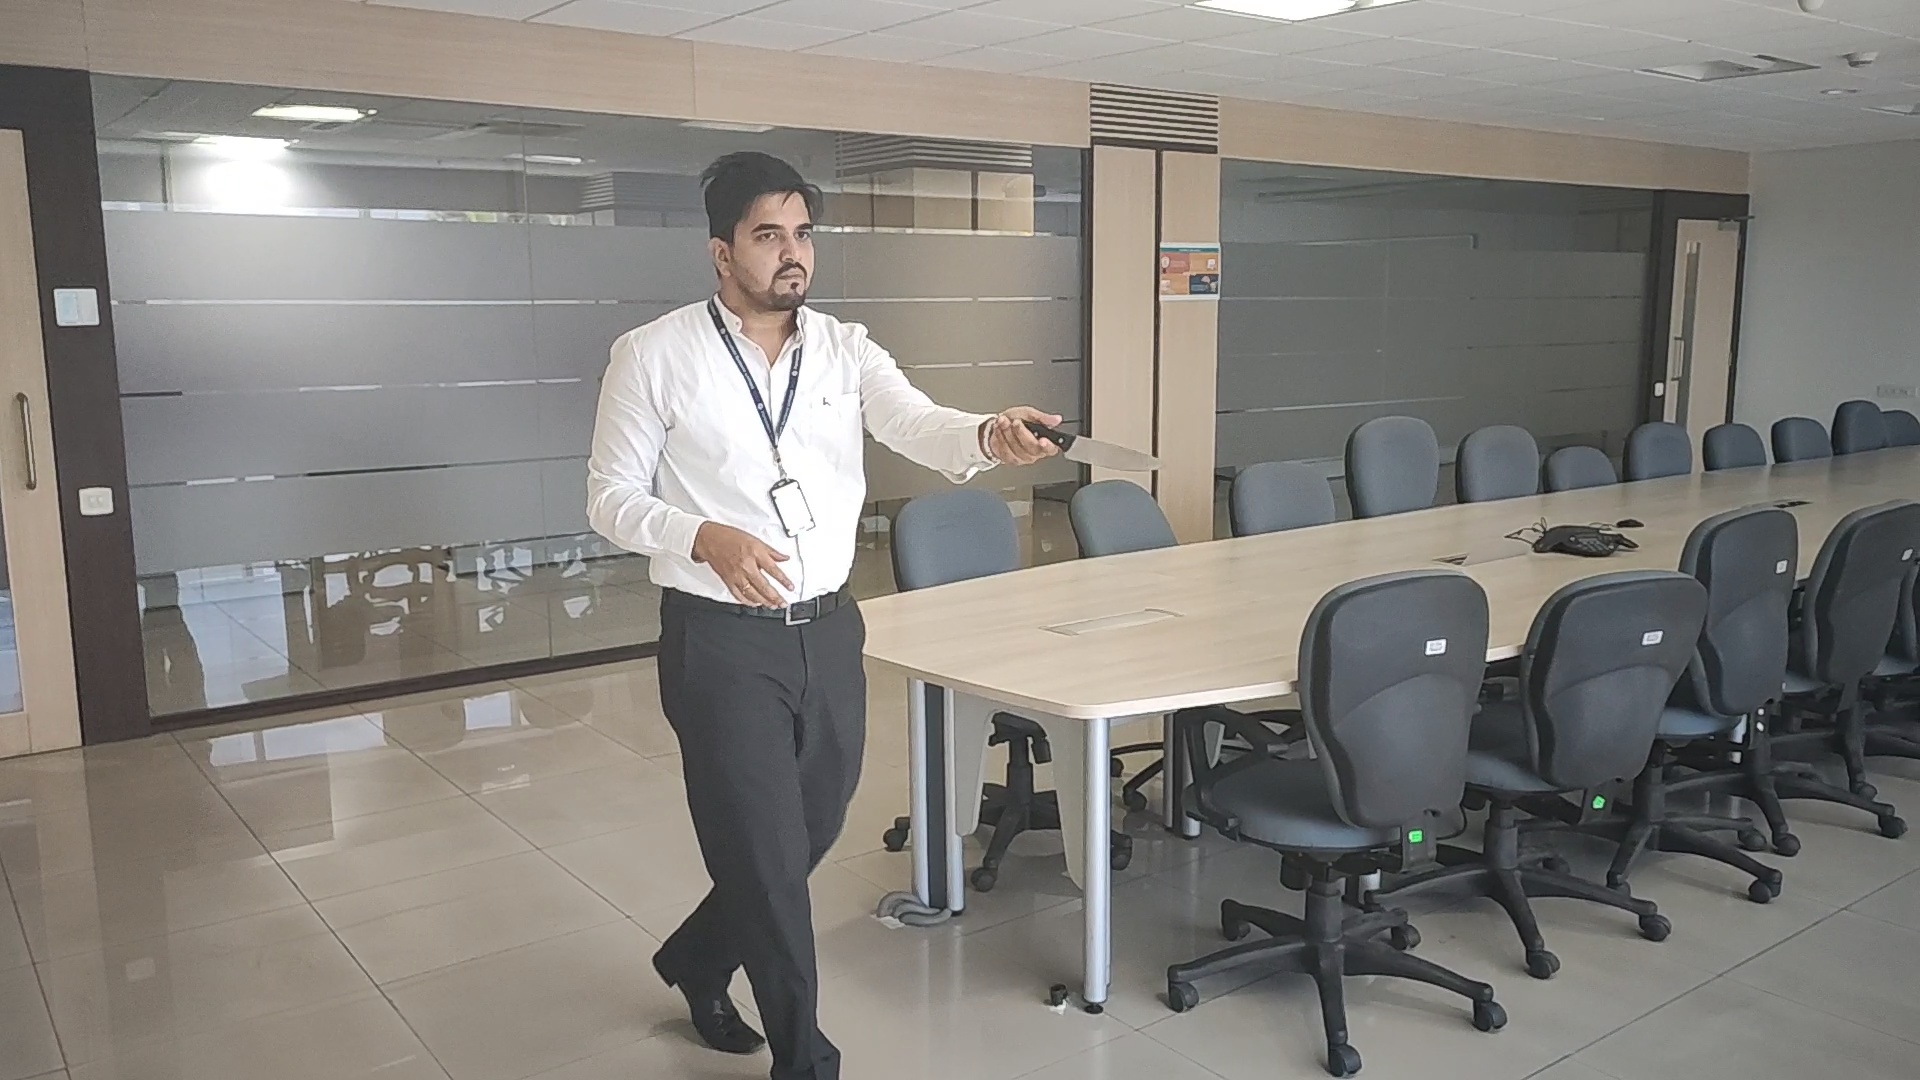knife: (1059, 427, 1168, 473)
